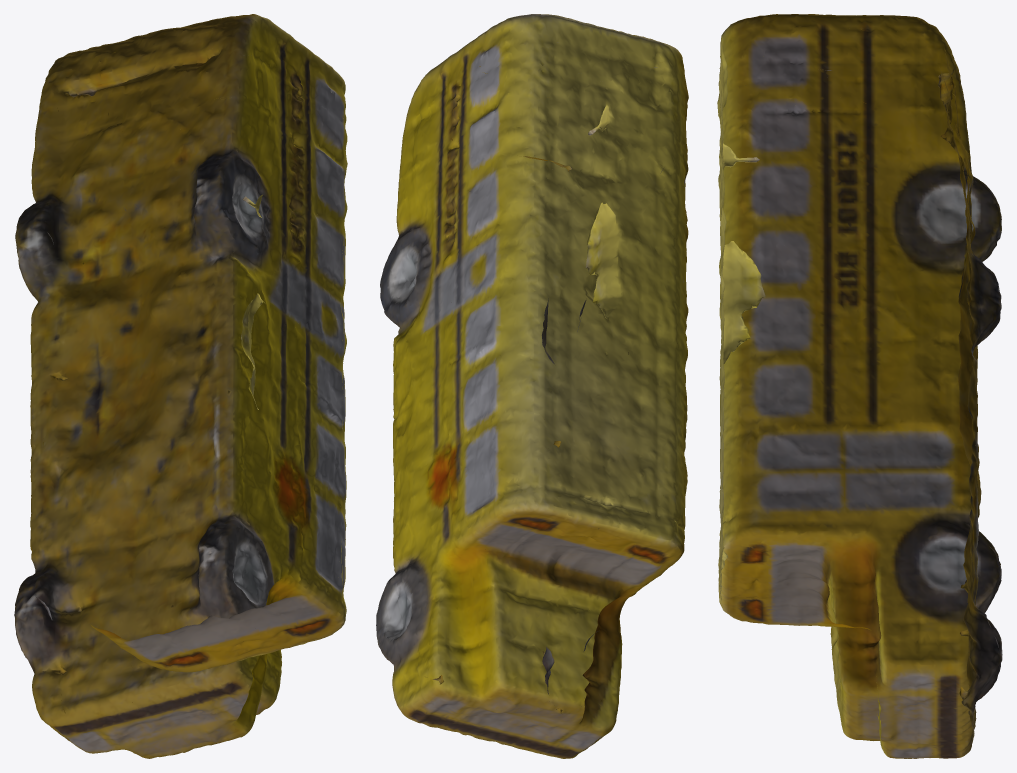
Rendered from school_bus1.glb.
3 views of the same model, side by side, from view 1: azimuth 30°, elevation 25°; view 2: azimuth 150°, elevation 25°; view 3: azimuth 270°, elevation 25° (orthographic). The views are drawn at different scales.
Size of the model in its own units: 0.3344 by 1 by 0.3878.
